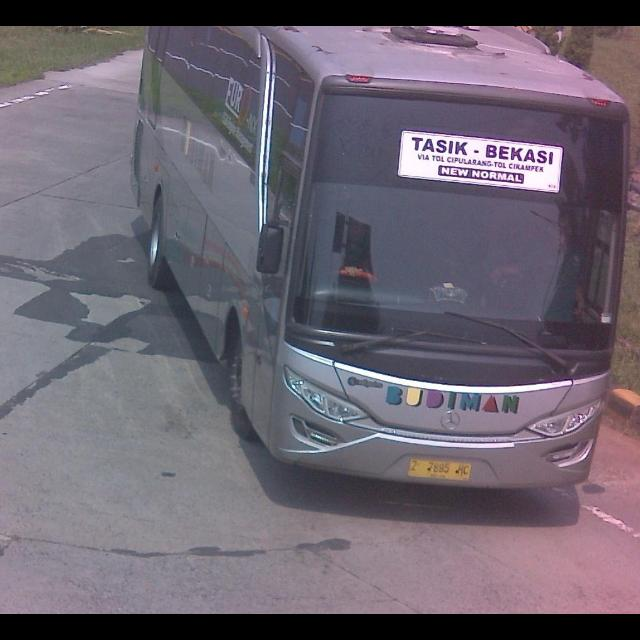plate: (406, 456, 472, 484)
